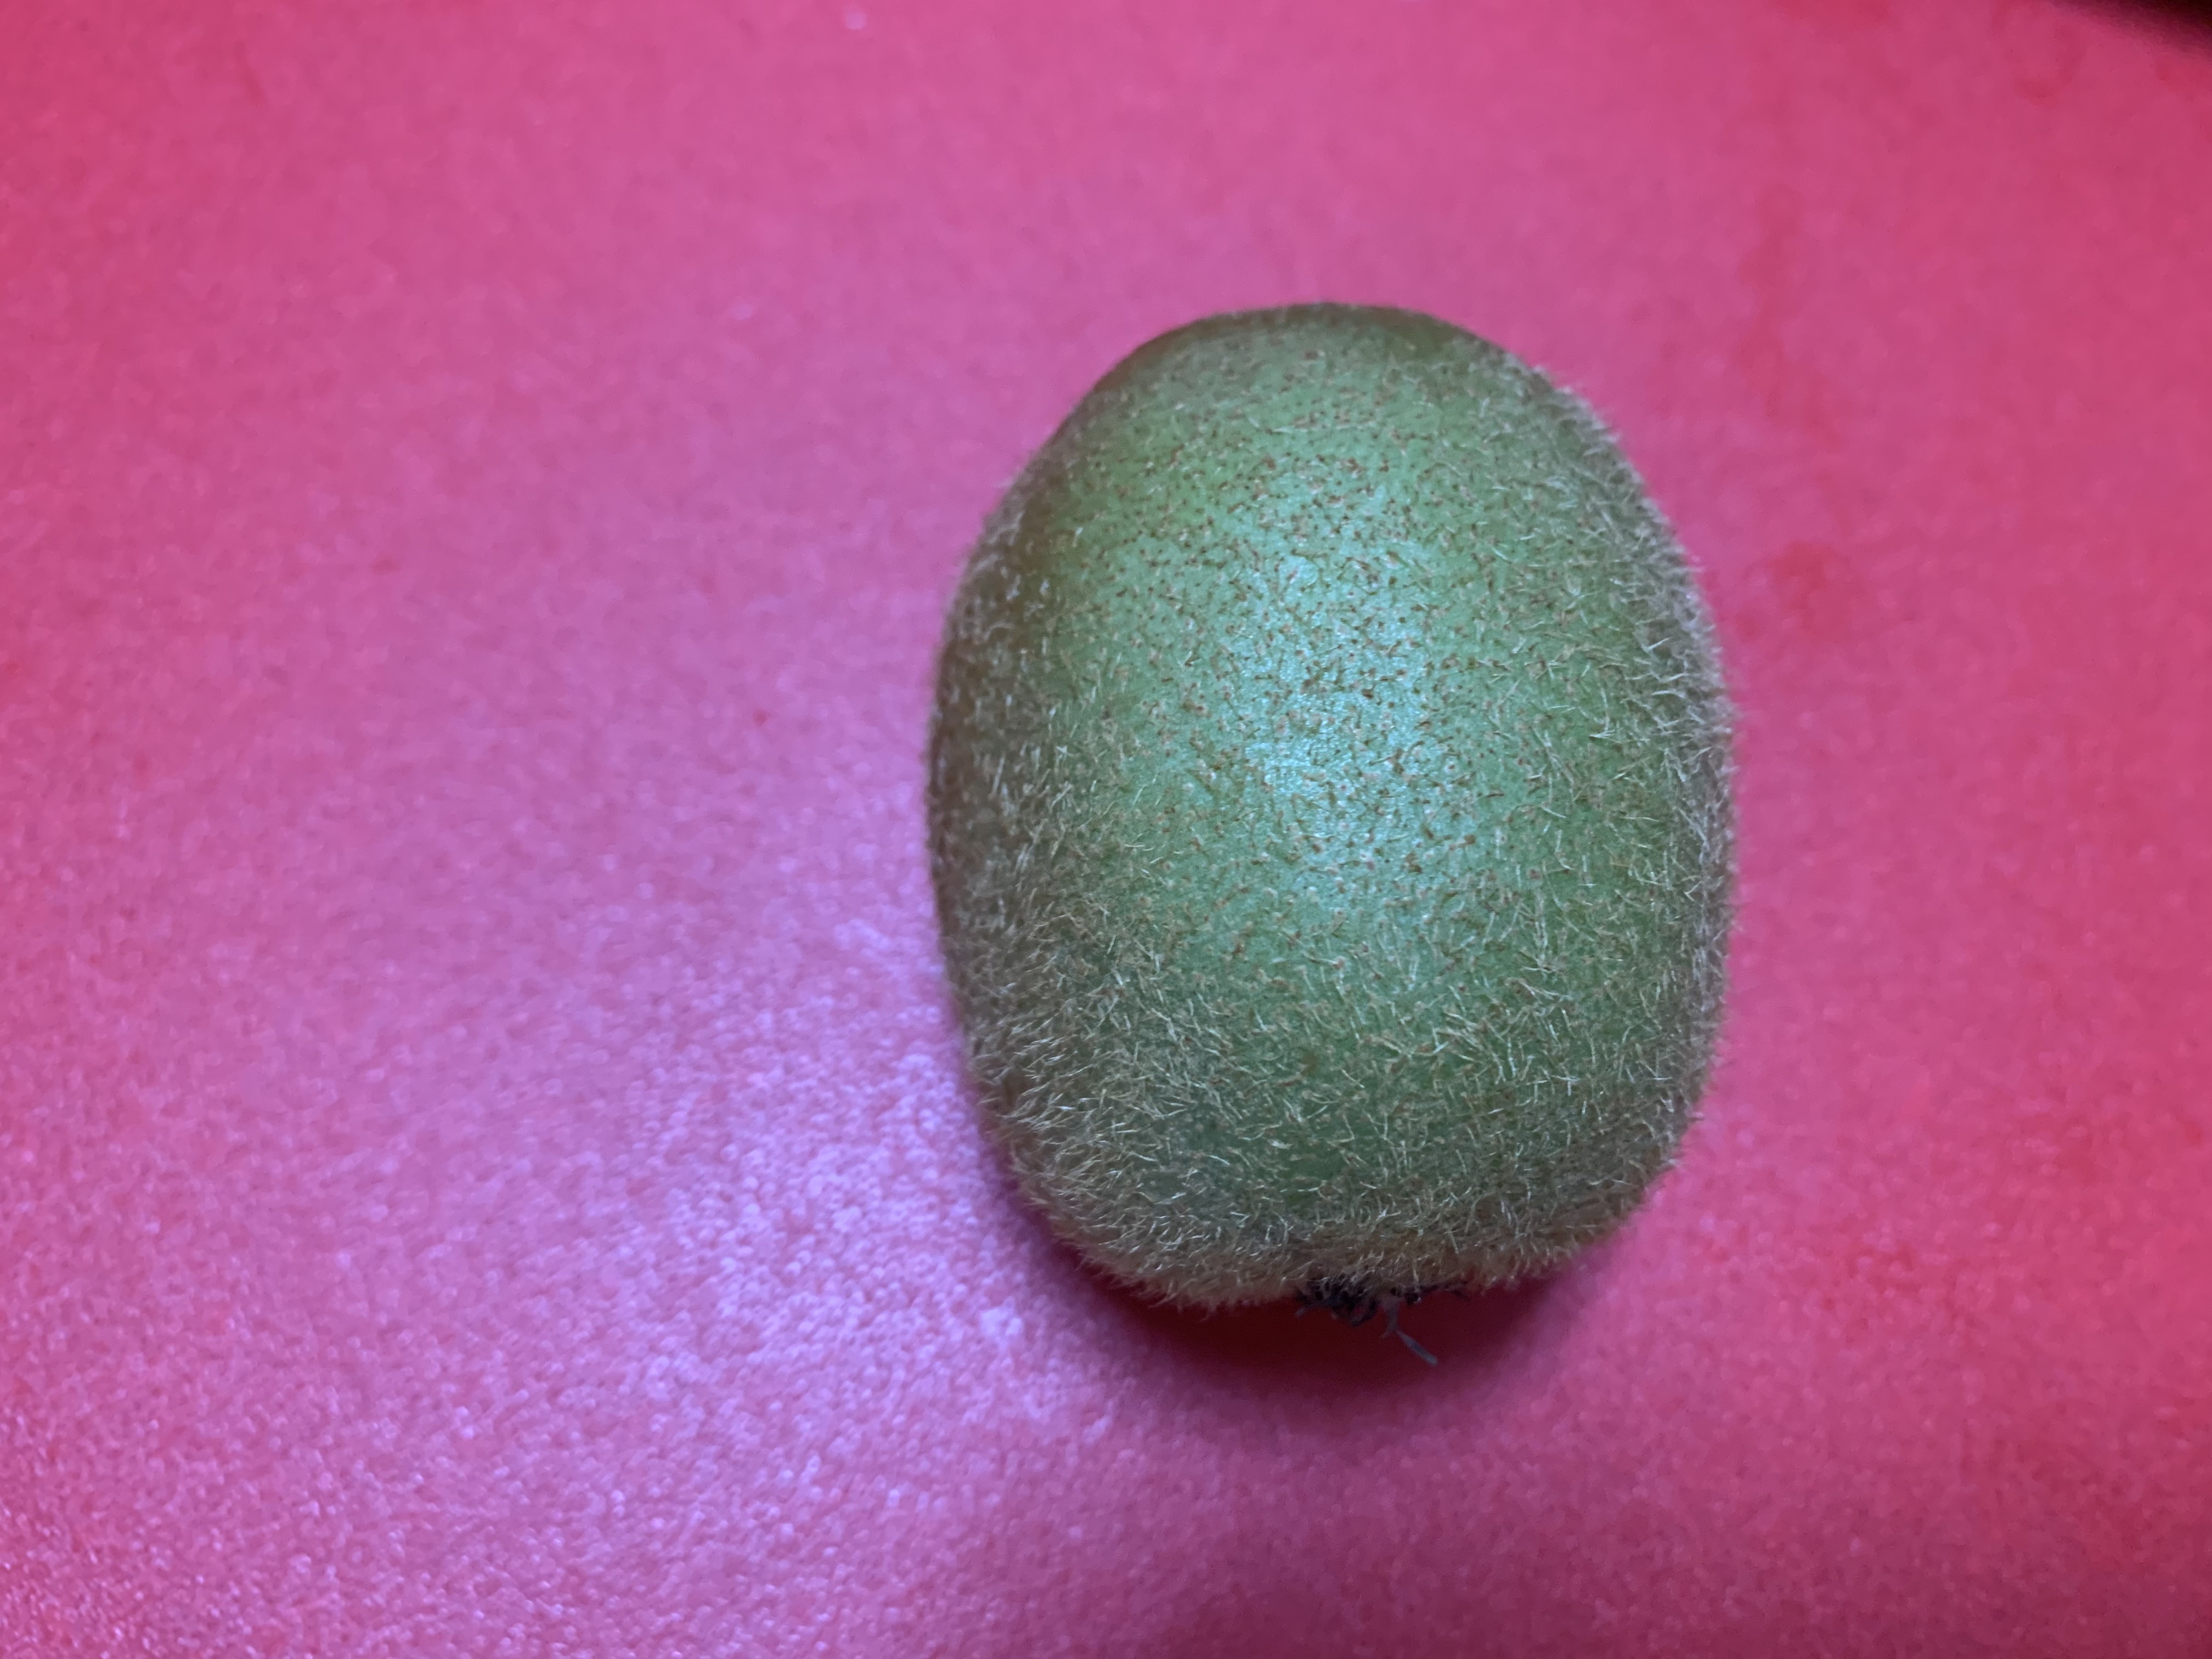kiwi: (928, 303, 1738, 1314)
